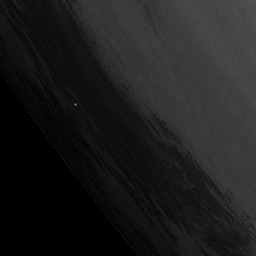Target: (73, 101, 78, 107)
